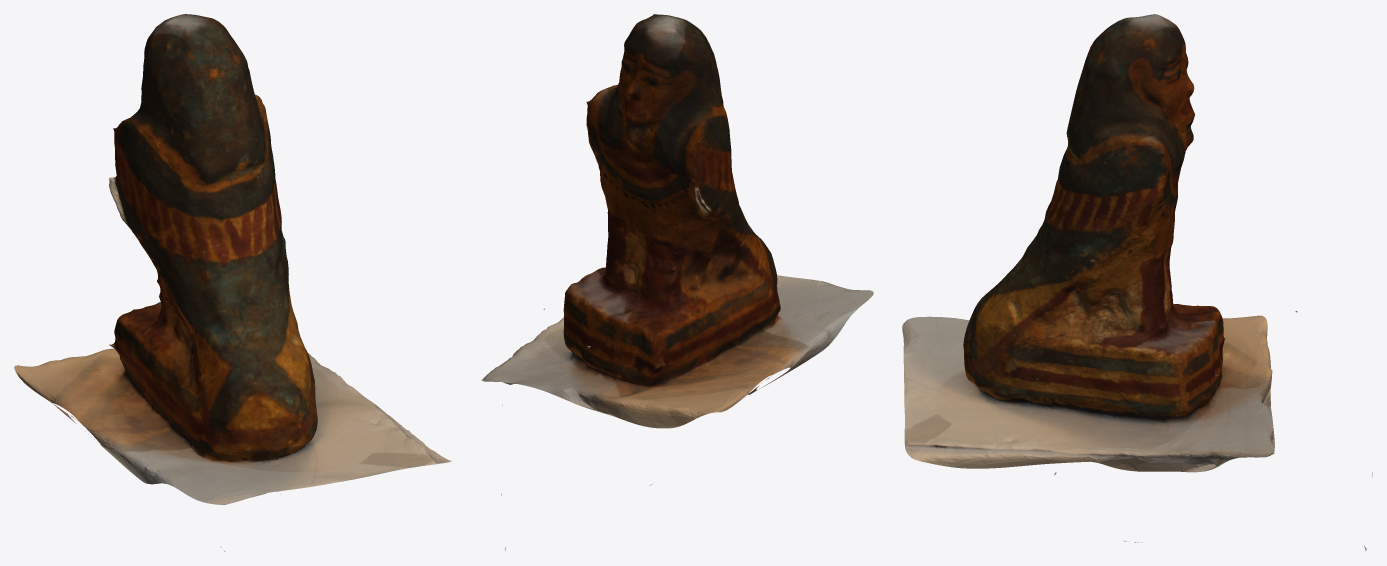
File: BaBird.fbx
3 views of the same model, side by side, from view 1: azimuth 30°, elevation 25°; view 2: azimuth 150°, elevation 25°; view 3: azimuth 270°, elevation 25° (orthographic). The views are drawn at different scales.
Visible parts, largest first — view 1: Texture_0; view 2: Texture_0; view 3: Texture_0.
Boxes of the visible parts, x1,y1,x2,y2 form: Texture_0: (14, 14, 451, 504); Texture_0: (481, 14, 873, 428); Texture_0: (902, 14, 1274, 472).
Size of the model in its own units: 906 by 1770 by 1478.
